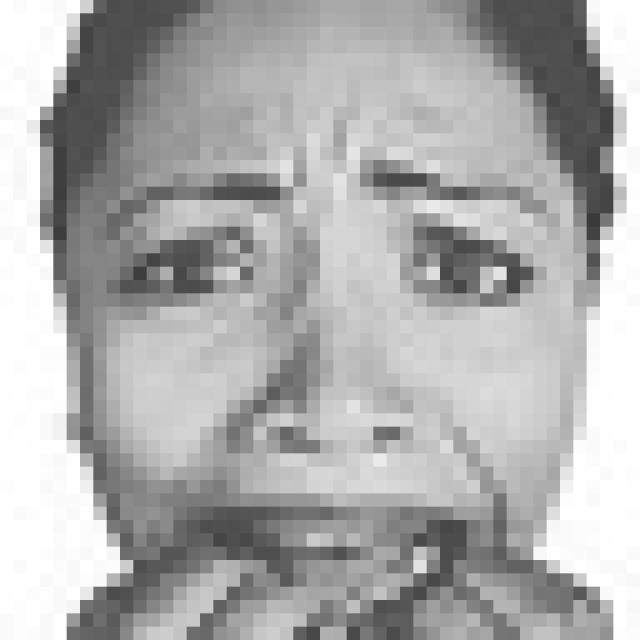fear: (106, 117, 556, 640)
